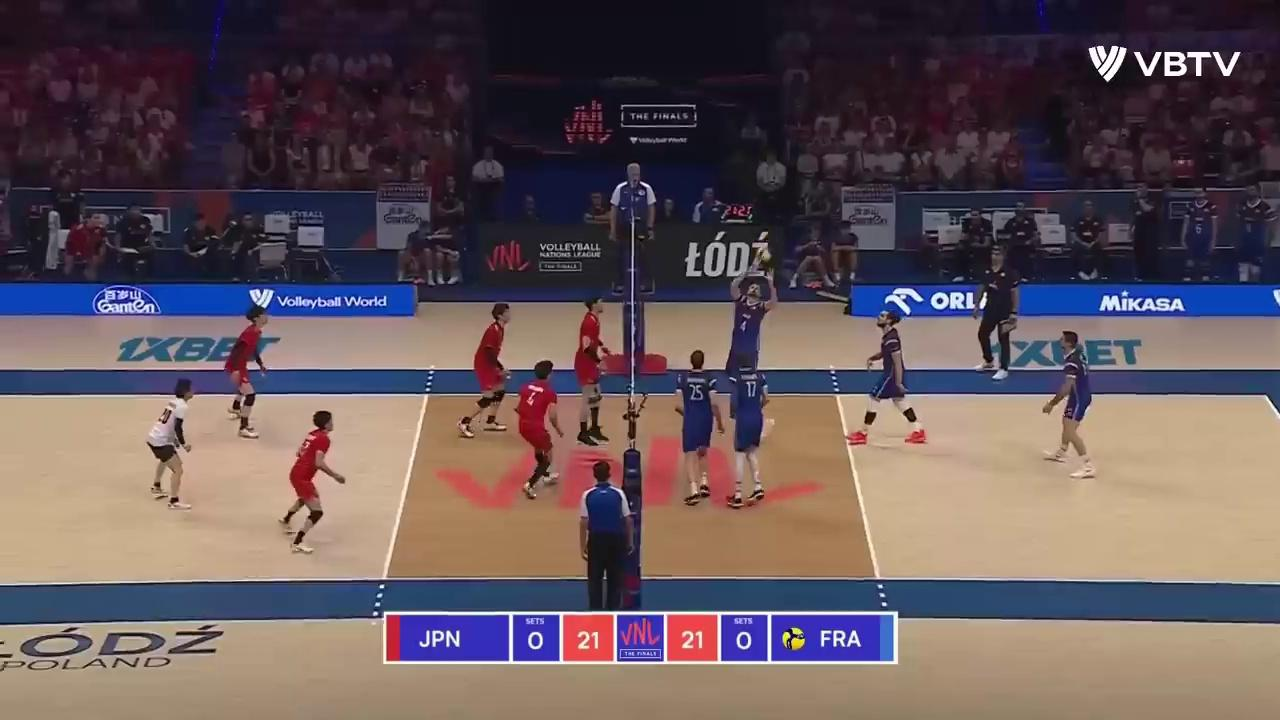ball: (758, 247, 773, 263)
